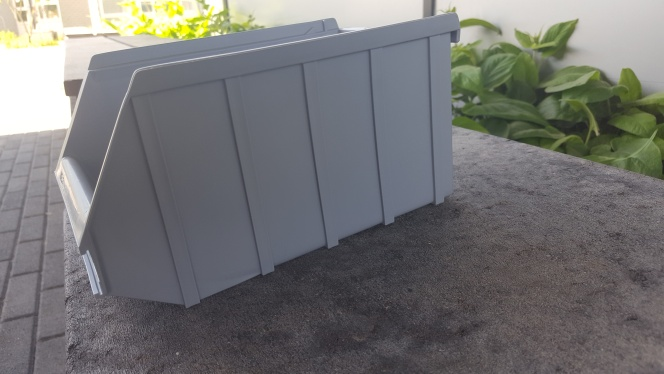tray_right: (83, 12, 462, 304)
